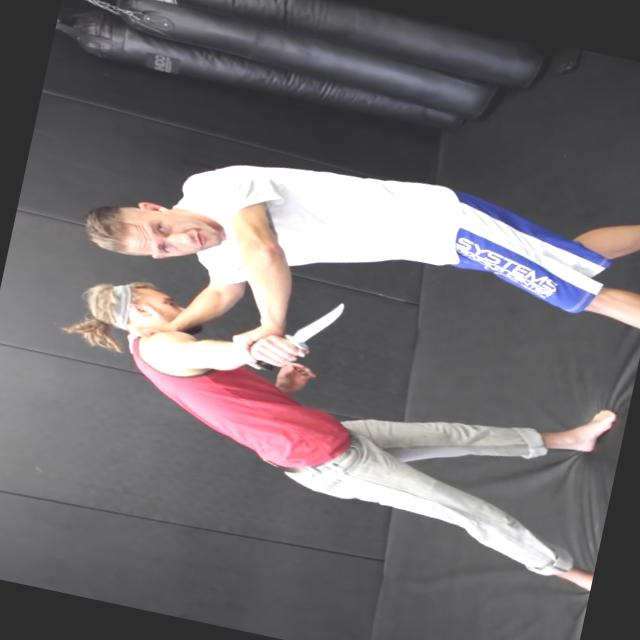knife: (240, 280, 356, 390)
